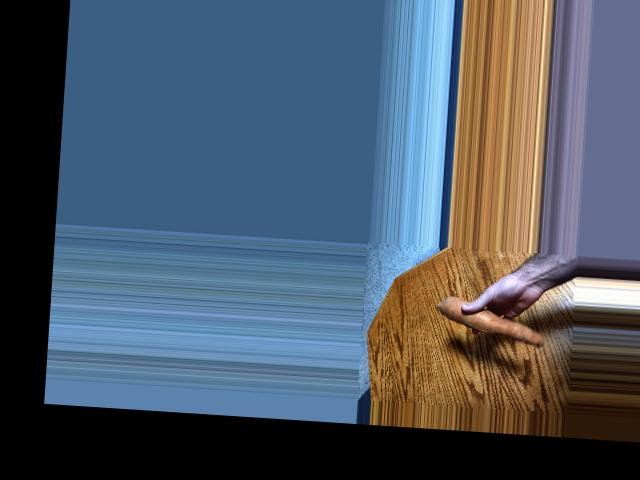sweet_potato: (437, 301, 552, 339)
